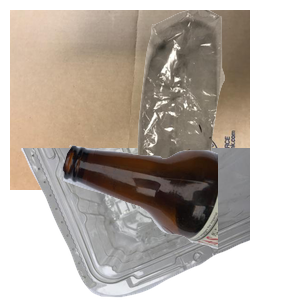cardboard: (10, 10, 250, 190)
glass: (60, 142, 300, 300)
plastic: (19, 148, 259, 300)
trash: (114, 10, 300, 190)
